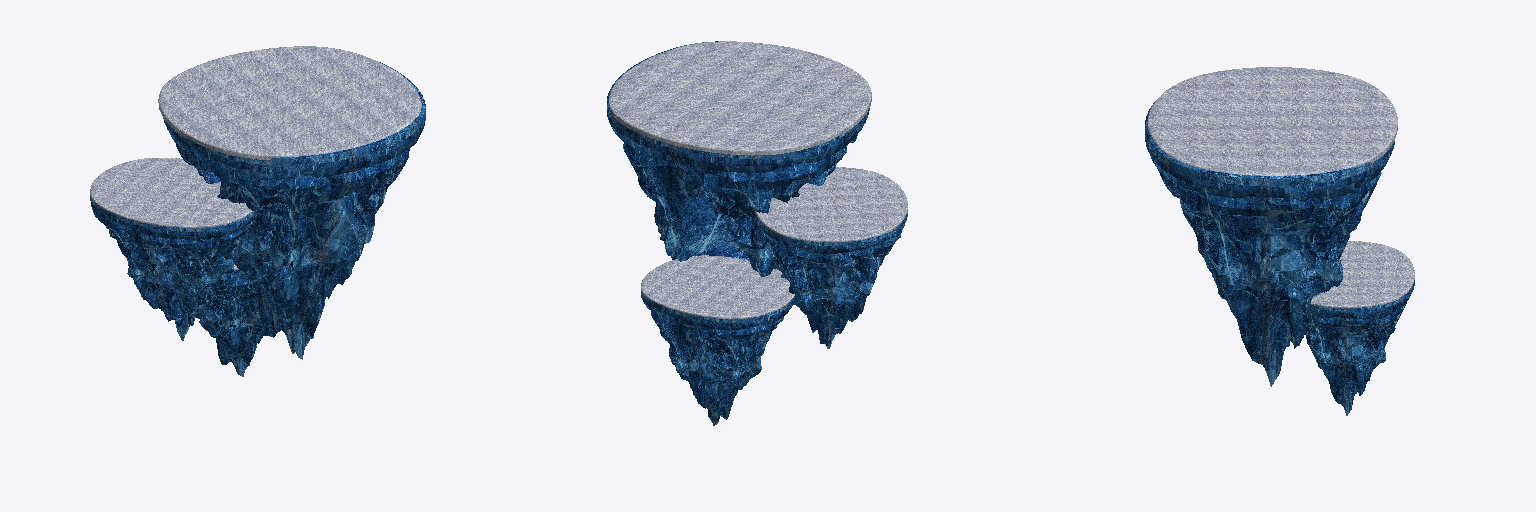
The picture shows the model from 3 angles: view 1: azimuth 30°, elevation 25°; view 2: azimuth 150°, elevation 25°; view 3: azimuth 270°, elevation 25°; orthographic projection.
Visible parts, largest first — view 1: island001, grass001, island003, grass002, island005; view 2: grass001, island001, island005, island003, grass002, grass003; view 3: island001, grass001, island005, grass003.
Boxes of the visible parts, <box> form: island001: <box>163,62,425,359</box>; grass001: <box>158,46,421,159</box>; island003: <box>90,195,255,340</box>; grass002: <box>90,158,253,227</box>; island005: <box>196,270,265,376</box>; grass001: <box>609,41,871,155</box>; island001: <box>607,41,869,276</box>; island005: <box>641,291,794,425</box>; island003: <box>755,211,907,348</box>; grass002: <box>756,167,907,241</box>; grass003: <box>641,255,794,318</box>; island001: <box>1145,102,1394,386</box>; grass001: <box>1147,67,1397,175</box>; island005: <box>1301,280,1414,415</box>; grass003: <box>1310,241,1414,307</box>.
Bounding box in the file's own units: 61.24 × 61.08 × 49.6.
Materials: 6 (2 with a texture image).